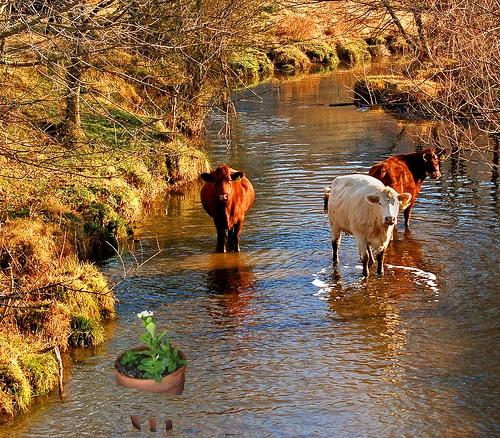tampered: (115, 311, 187, 434)
